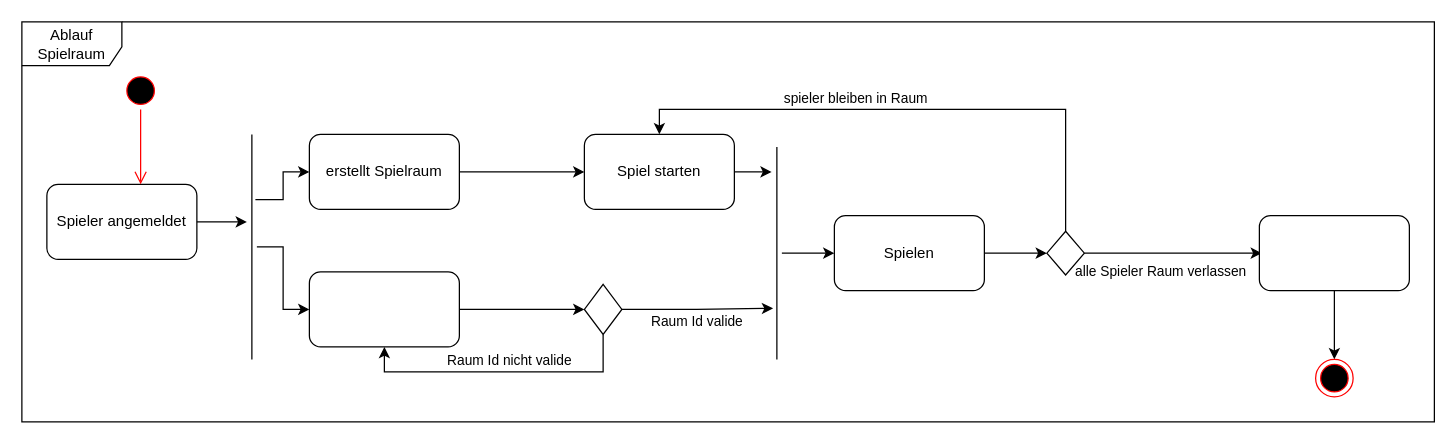
This 1456x444 diagram has some shape labels left out. Each missing label, with the centre of its shape:
"Raum Id eingeben" belongs at (383,309).
"Raum löschen" belongs at (1333,252).
